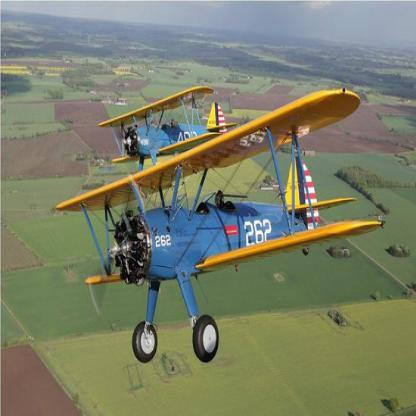CIV_Plane: (44, 88, 385, 370), (95, 82, 236, 164)
